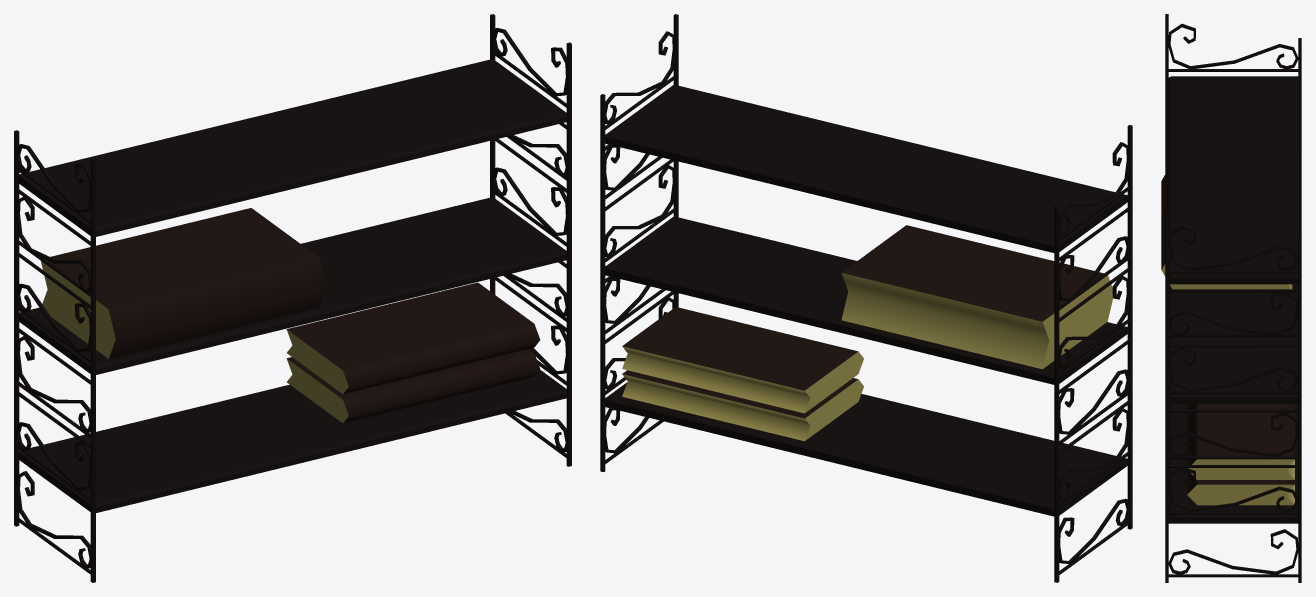
Rendered from Wall_Book_shelf_type2.FBX.
3 renders of one model, left to right at view 1: azimuth 30°, elevation 25°; view 2: azimuth 150°, elevation 25°; view 3: azimuth 270°, elevation 25°, orthographic. The views are drawn at different scales.
Parts seen in each view (by area): view 1: Wall_Book_shelf_type2_01, Book_type1_003, Book_type4_003, Book_type5_003; view 2: Wall_Book_shelf_type2_01, Book_type1_003, Book_type4_003, Book_type5_003; view 3: Wall_Book_shelf_type2_01, Book_type4_003, Book_type5_003, Book_type1_003.
Part boxes in pixels (<box>): Wall_Book_shelf_type2_01: <box>14,14,571,582</box>; Book_type1_003: <box>41,208,326,358</box>; Book_type4_003: <box>286,282,540,394</box>; Book_type5_003: <box>286,349,539,423</box>; Wall_Book_shelf_type2_01: <box>600,14,1132,582</box>; Book_type1_003: <box>841,225,1112,369</box>; Book_type4_003: <box>622,307,863,413</box>; Book_type5_003: <box>622,370,863,441</box>; Wall_Book_shelf_type2_01: <box>1165,14,1301,582</box>; Book_type4_003: <box>1187,404,1294,479</box>; Book_type5_003: <box>1187,471,1294,505</box>; Book_type1_003: <box>1161,170,1292,289</box>.
Size of the model in its own units: 150 by 126 by 43.77.
